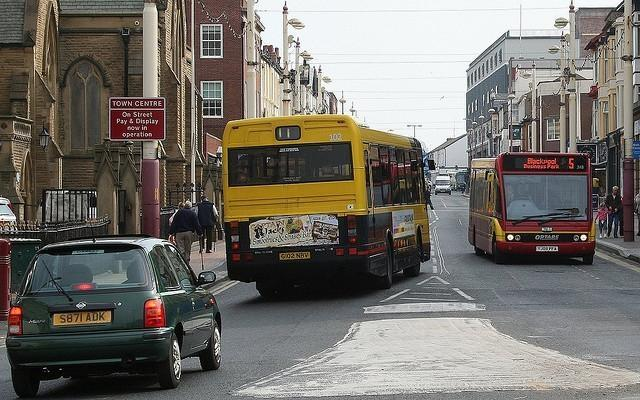bus: (221, 114, 436, 295), (466, 151, 596, 265)
car: (6, 234, 224, 397), (1, 198, 18, 222), (434, 176, 452, 196)
truck: (433, 176, 453, 196)
